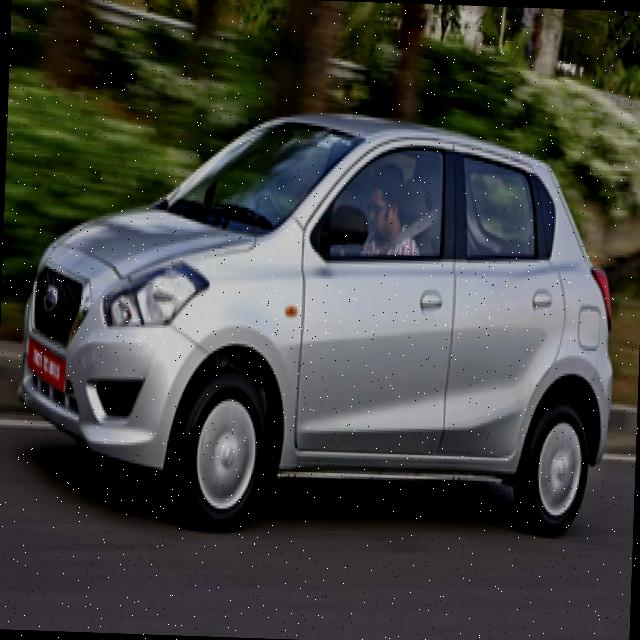Autre: (24, 333, 67, 396)
